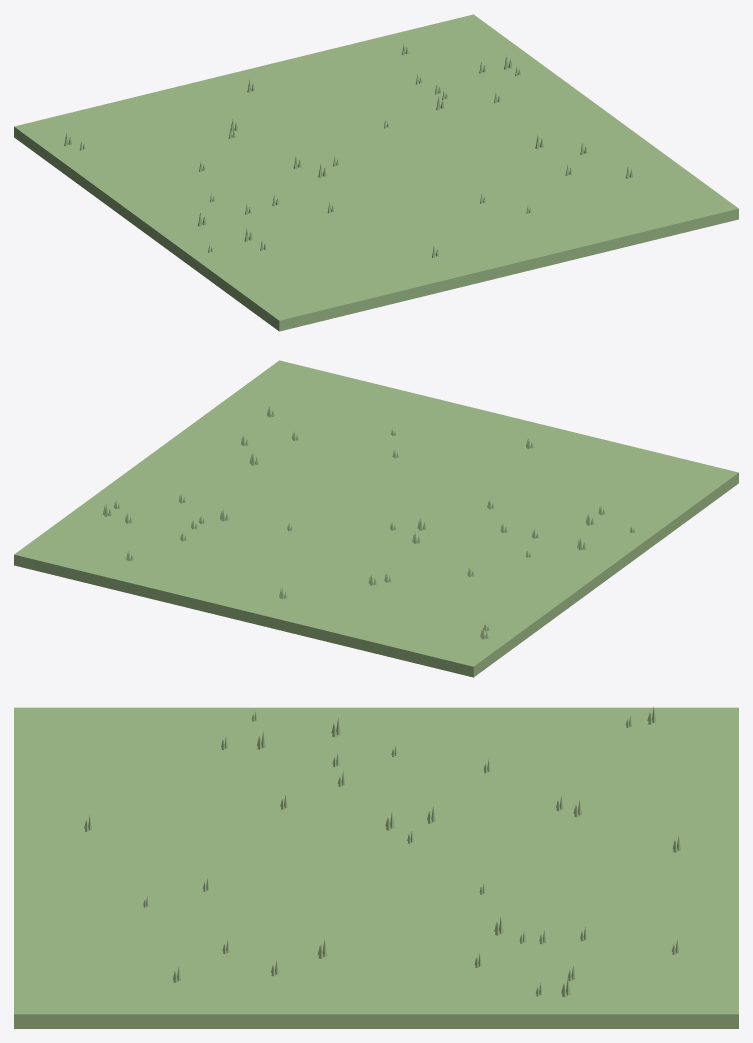
The model's file is hot-air-balloon-festival-launch-field-grass-module-44ecf908__38487.glb.
3 renders of one model, top to bottom at view 1: azimuth 30°, elevation 25°; view 2: azimuth 150°, elevation 25°; view 3: azimuth 270°, elevation 25°, orthographic. The views are drawn at different scales.
Visible parts, largest first — view 1: launch-field-grass-module-grass; view 2: launch-field-grass-module-grass; view 3: launch-field-grass-module-grass.
Boxes of the visible parts, left/top/right/bottom form: launch-field-grass-module-grass: left=14, top=14, right=738, bottom=331; launch-field-grass-module-grass: left=14, top=360, right=738, bottom=677; launch-field-grass-module-grass: left=14, top=706, right=738, bottom=1028.
Bounding box in the file's own units: 8 × 0.3936 × 8.
